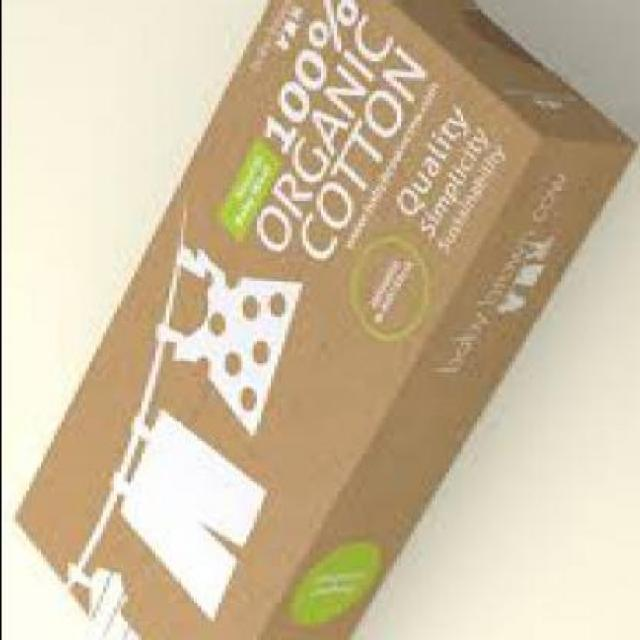box: (8, 2, 634, 639)
